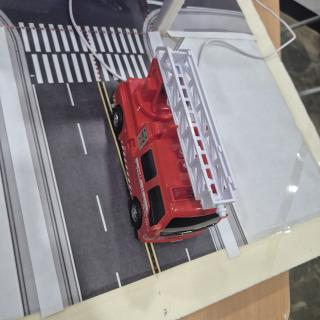Fire_truck: (112, 47, 236, 242)
